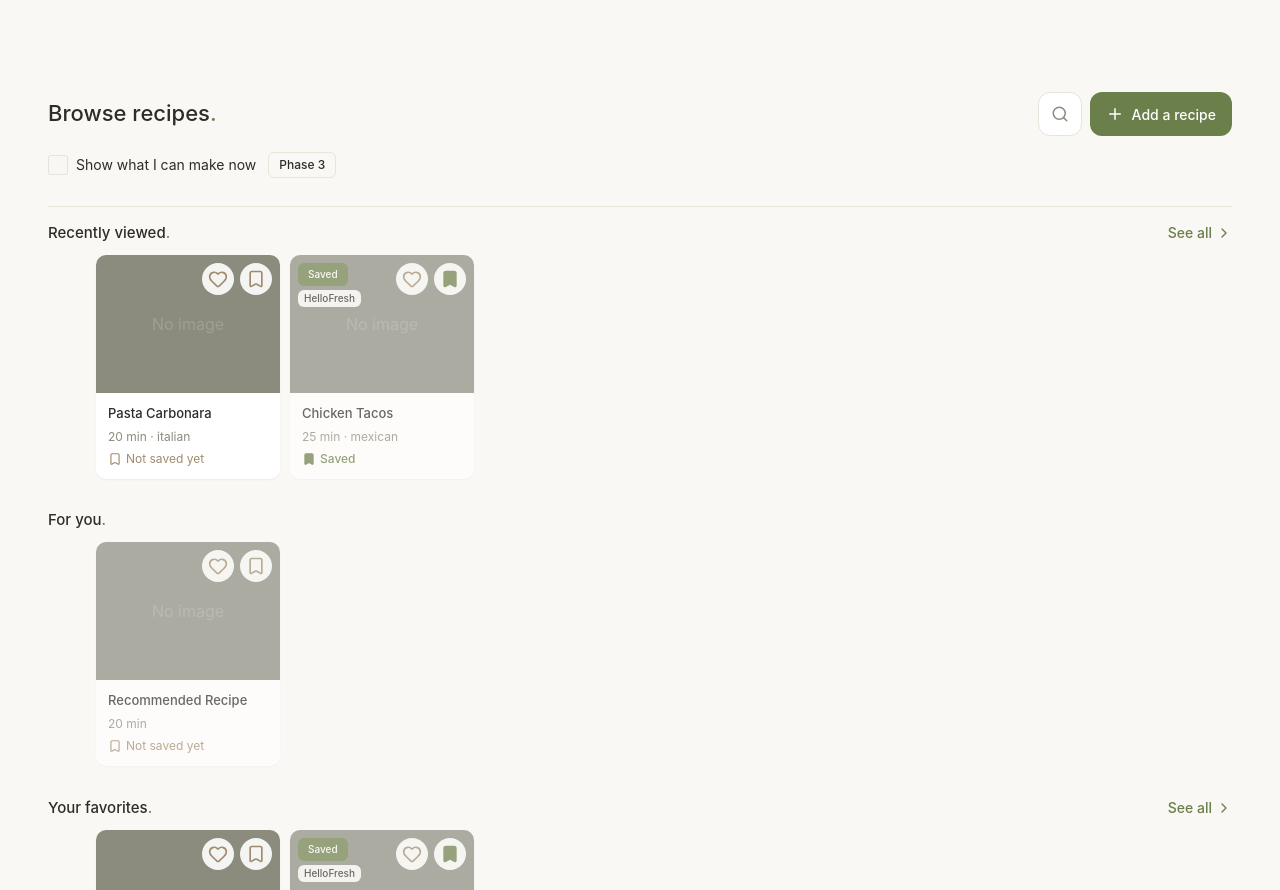
Scenario: Recipes Page › search functionality › maintains grid view while search has value
Click the button named "Search recipes": (1060, 114) [1038,92,1082,136]
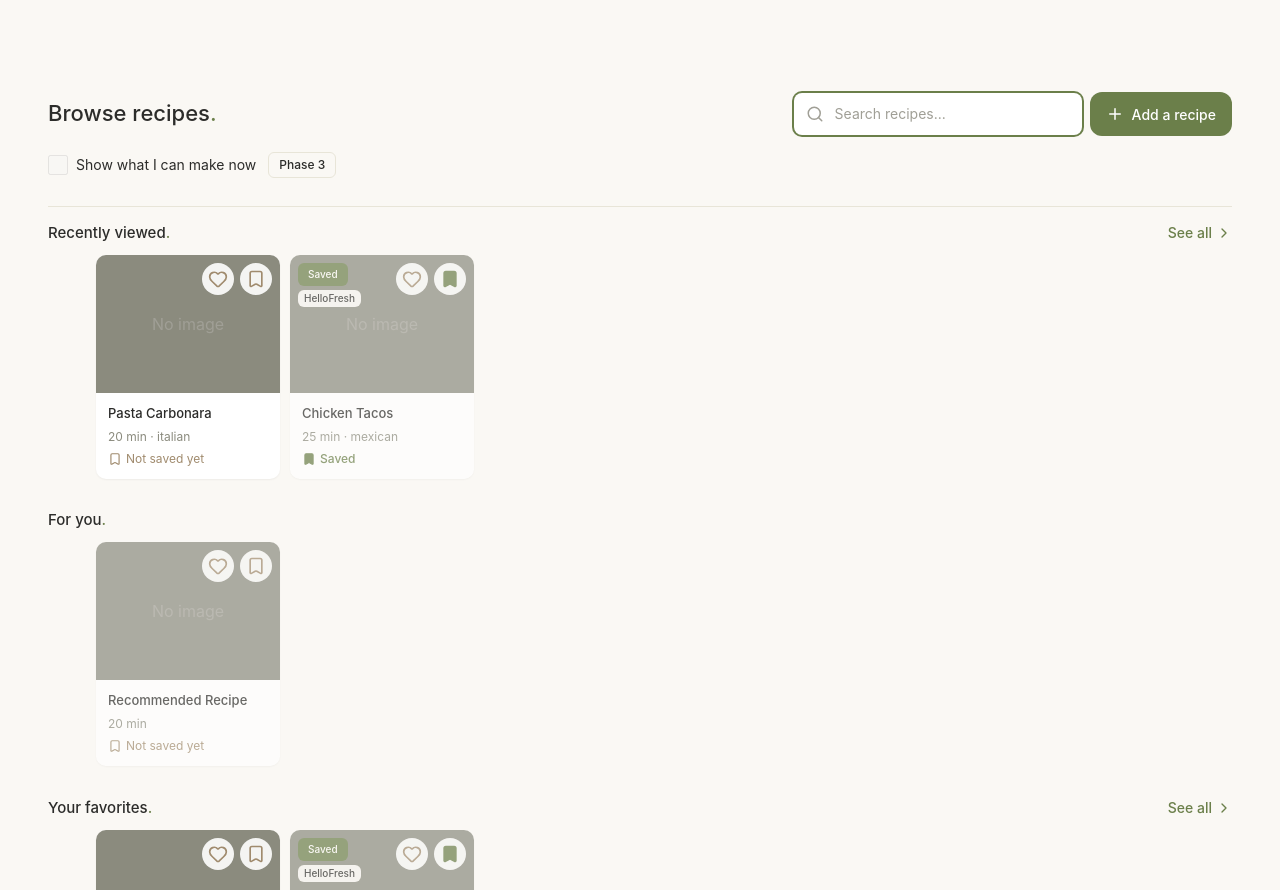
In the field with placeholder "Search recipes...": (938, 114) [794,93,1082,135], type "taco"
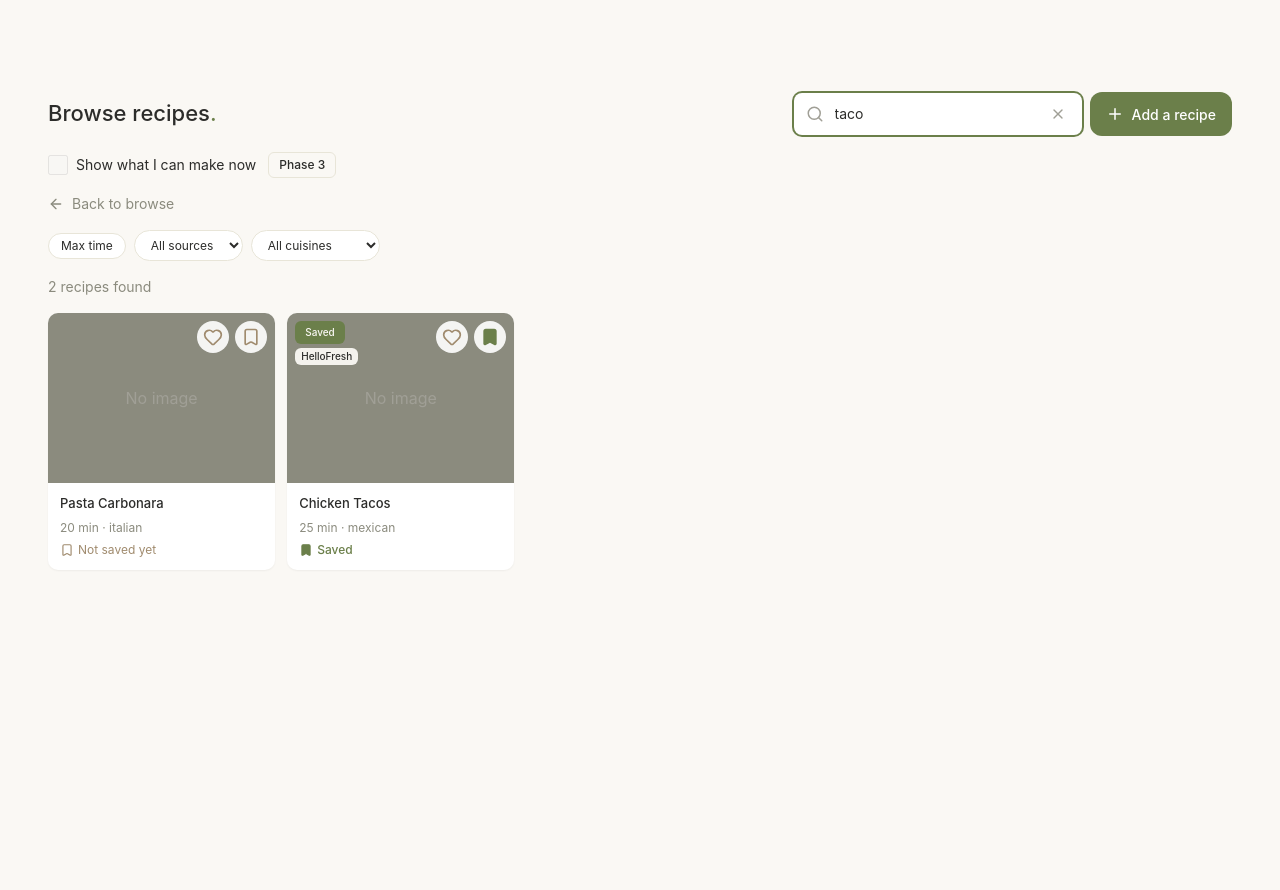
expect the button with aria-label "Back to browse view" is shown: met, box [48,194,174,214]
expect the heading "Your favorites." is gone: met
